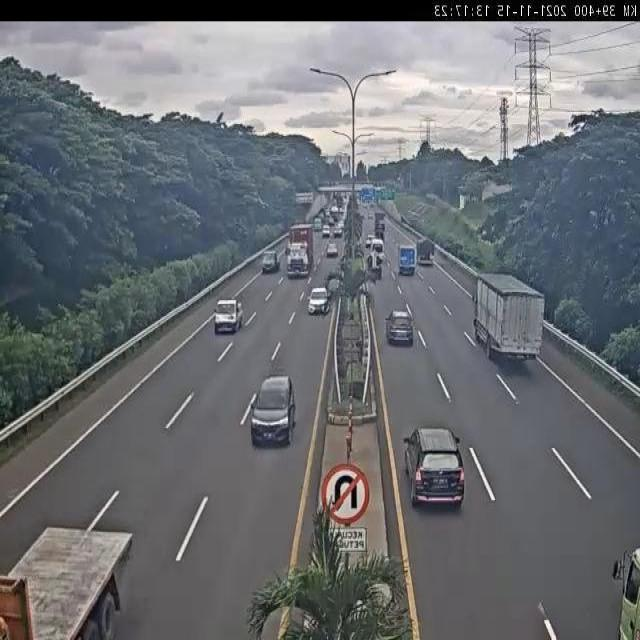Car: (404, 419, 471, 515), (249, 374, 297, 446), (385, 309, 414, 347), (214, 298, 244, 334), (307, 286, 331, 316), (262, 250, 280, 274), (326, 242, 338, 258)
Truck: (0, 489, 134, 640), (463, 258, 558, 376), (286, 222, 315, 278), (398, 245, 416, 276), (418, 238, 434, 267), (374, 212, 385, 238)
